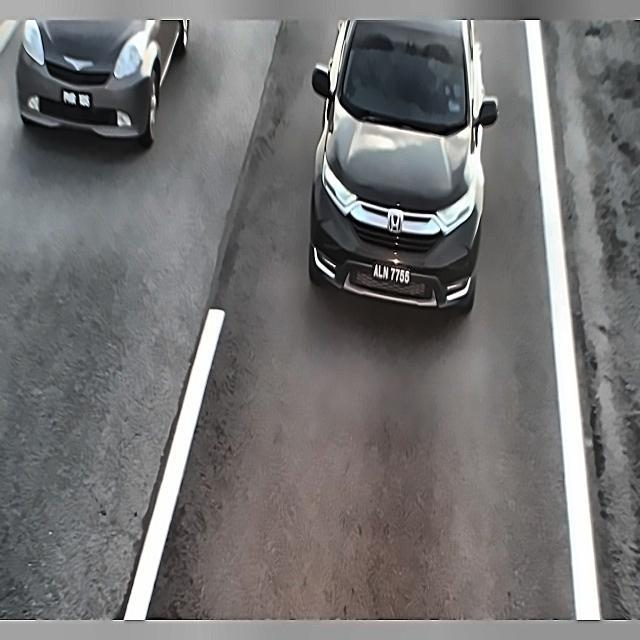car: (367, 252, 414, 297), (54, 74, 99, 118)
